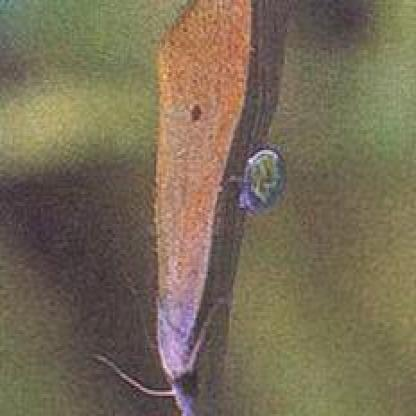stem-borer: (141, 0, 240, 416)
